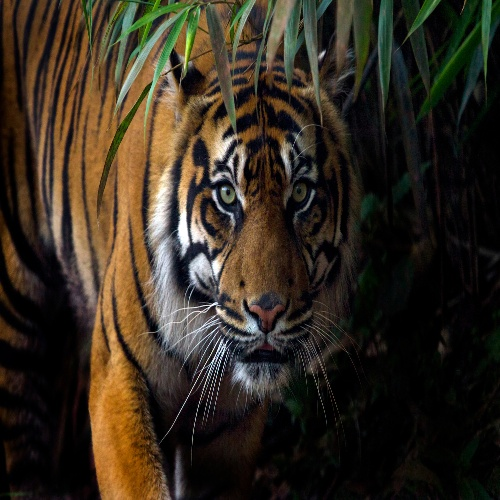tiger: (39, 19, 357, 431)
